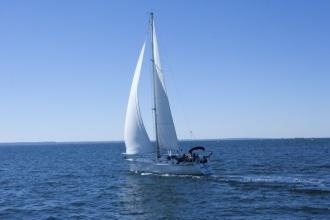fanchuan: (119, 9, 210, 176)
